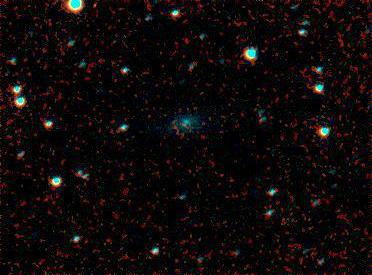star: (77, 0, 107, 22)
